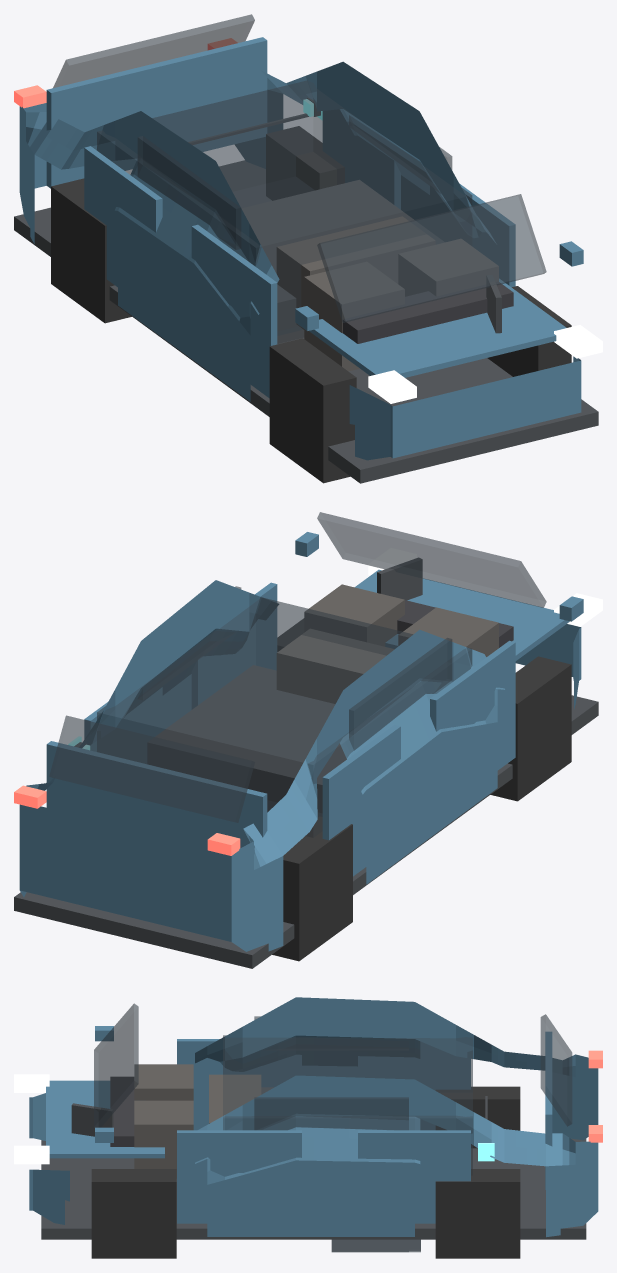
Rendered from compact_crossover_lod2.glb.
The picture shows the model from 3 angles, top to bottom: view 1: azimuth 30°, elevation 25°; view 2: azimuth 150°, elevation 25°; view 3: azimuth 270°, elevation 25°; orthographic projection. The views are drawn at different scales.
Parts seen in each view (by area): view 1: body_mesh, cab_mesh, windshield, liftgate_mesh, trim_mesh, tire_fr, frunk_mesh, wheel_well_mesh, tire_rr, seat_rear, door_fr_mesh, seat_r (+13 smaller); view 2: body_mesh, cab_mesh, wheel_well_mesh, liftgate_mesh, rear_glass, windshield, tire_rr, trim_mesh, tire_fr, seat_rear, door_fr_mesh, door_rr_mesh (+11 smaller); view 3: body_mesh, cab_mesh, tire_fl, trim_mesh, tire_rl, door_fl_mesh, door_rl_mesh, window_fixed_l, frunk_mesh, windshield, door_rr_mesh, seat_l (+13 smaller).
Part boxes in pixels (x1,y1,x2,y2): body_mesh: (19, 61, 581, 460); cab_mesh: (97, 80, 472, 335); windshield: (317, 194, 546, 322); liftgate_mesh: (46, 37, 267, 188); trim_mesh: (14, 160, 598, 483); tire_fr: (269, 338, 356, 483); frunk_mesh: (309, 279, 566, 377); wheel_well_mesh: (241, 180, 444, 343); tire_rr: (51, 178, 131, 323); seat_rear: (276, 216, 435, 329); door_fr_mesh: (191, 224, 277, 398); seat_r: (304, 262, 404, 371); body_mesh: (19, 580, 581, 951); cab_mesh: (97, 597, 472, 837); wheel_well_mesh: (147, 665, 346, 816); liftgate_mesh: (46, 741, 267, 847); rear_glass: (49, 715, 254, 822); windshield: (317, 512, 546, 607); tire_rr: (272, 816, 352, 961); trim_mesh: (14, 695, 598, 968); tire_fr: (490, 656, 571, 801); seat_rear: (276, 629, 394, 703); door_fr_mesh: (430, 640, 515, 770); door_rr_mesh: (322, 725, 400, 876); body_mesh: (29, 997, 598, 1237); cab_mesh: (223, 1035, 472, 1175); tire_fl: (91, 1169, 176, 1258); trim_mesh: (41, 1138, 586, 1239); tire_rl: (435, 1169, 520, 1258); door_fl_mesh: (177, 1130, 301, 1223); door_rl_mesh: (358, 1130, 470, 1223); window_fixed_l: (254, 1097, 408, 1130); frunk_mesh: (46, 1080, 164, 1158); windshield: (94, 1003, 138, 1127); door_rr_mesh: (358, 1042, 470, 1129); seat_l: (134, 1100, 193, 1178).
Bounding box in the file's own units: 2.11 × 1.99 × 4.95.
